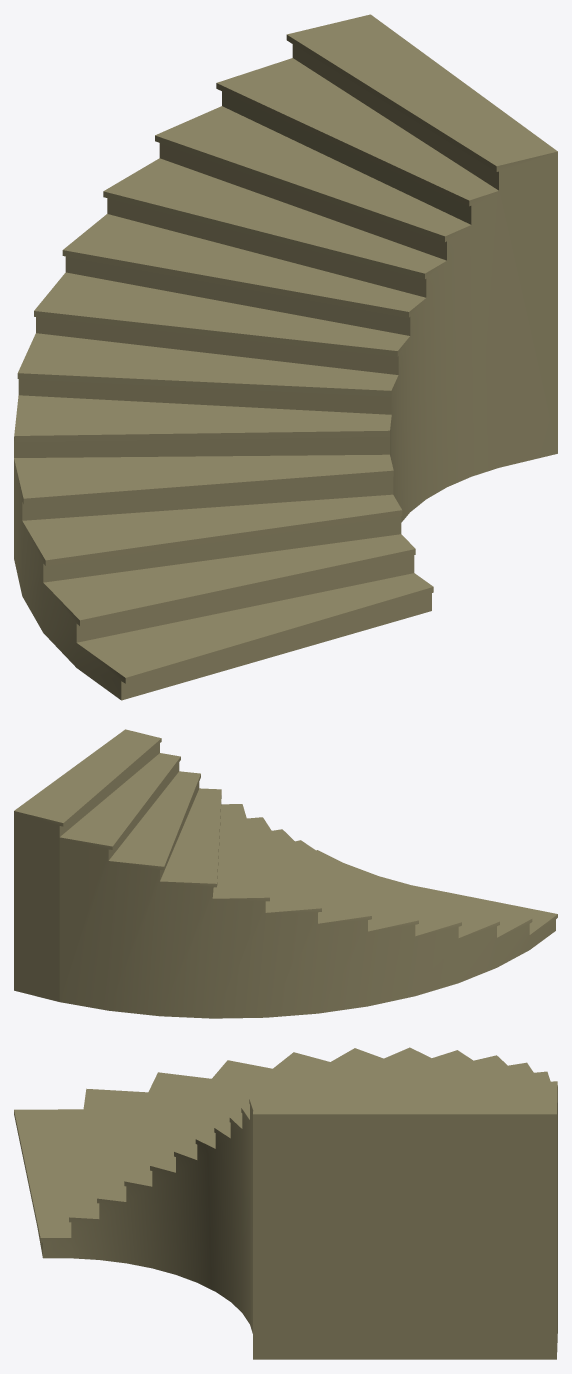
The model's file is mesh_EscaleraCurva_I.fbx.
3 views of the same model, one above another, from view 1: azimuth 30°, elevation 25°; view 2: azimuth 150°, elevation 25°; view 3: azimuth 270°, elevation 25° (orthographic). The views are drawn at different scales.
Parts seen in each view (by area): view 1: mesh_EscaleraCurva_I; view 2: mesh_EscaleraCurva_I; view 3: mesh_EscaleraCurva_I.
Boxes of the visible parts, box(x1,y1,x2,y2) form: mesh_EscaleraCurva_I: box(14, 14, 557, 700); mesh_EscaleraCurva_I: box(14, 729, 557, 1018); mesh_EscaleraCurva_I: box(14, 1047, 557, 1359).
Bounding box in the file's own units: 2960 × 1471 × 2960.
